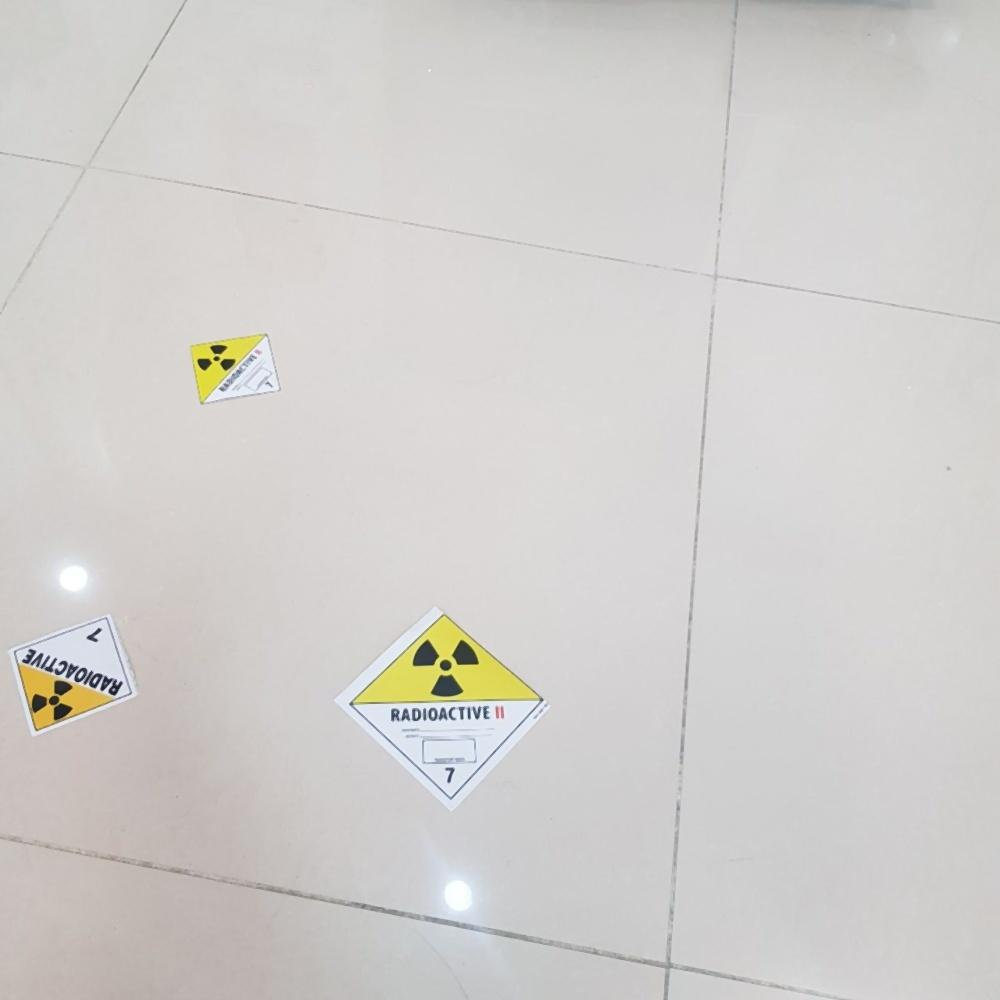radioactive: (340, 613, 555, 811), (12, 619, 141, 737), (187, 336, 286, 404)
